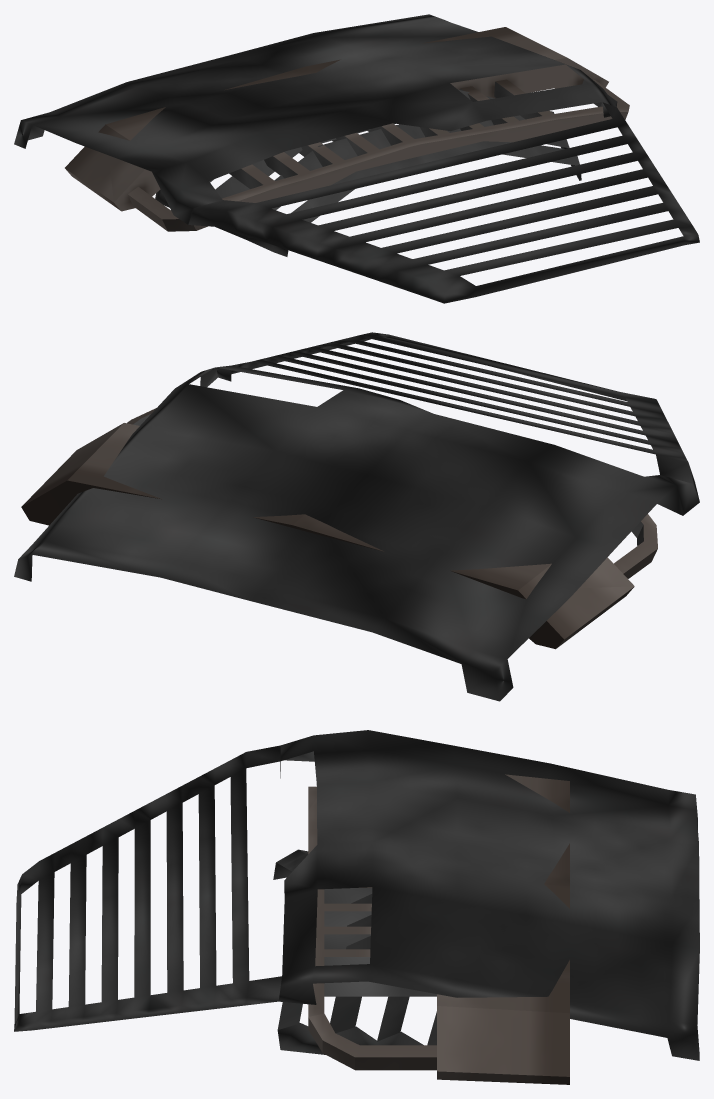
Rendered from Chevalier_Rhino_ArmorWI.fbx.
The picture shows the model from 3 angles, top to bottom: view 1: azimuth 30°, elevation 25°; view 2: azimuth 150°, elevation 25°; view 3: azimuth 270°, elevation 25°; orthographic projection. The views are drawn at different scales.
Visible parts, largest first — view 1: DoorArmor, BullyBar, WindSArmor; view 2: DoorArmor, BullyBar; view 3: DoorArmor, BullyBar, WindSArmor.
Part boxes in pixels (x1=…): DoorArmor: x1=14, y1=14, x2=699, y2=303; BullyBar: x1=65, y1=27, x2=629, y2=231; WindSArmor: x1=155, y1=89, x2=581, y2=256; DoorArmor: x1=14, y1=332, x2=699, y2=701; BullyBar: x1=21, y1=408, x2=657, y2=649; DoorArmor: x1=14, y1=730, x2=699, y2=1060; BullyBar: x1=308, y1=774, x2=569, y2=1084; WindSArmor: x1=273, y1=849, x2=436, y2=1054.
Bounding box in the file's own units: 2.32 × 0.4197 × 2.34.
